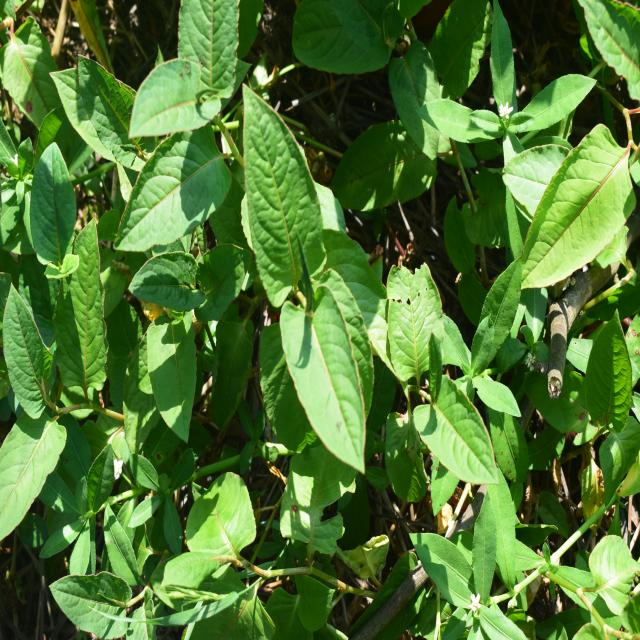Chinese_knotweed: (233, 101, 388, 471), (0, 203, 127, 511), (384, 263, 503, 501)
